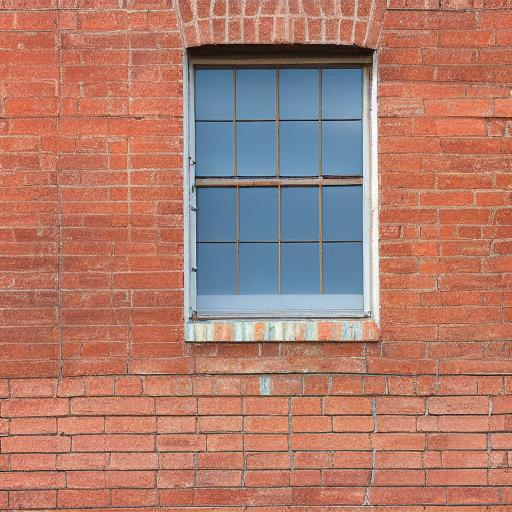Window: (177, 0, 385, 348)
